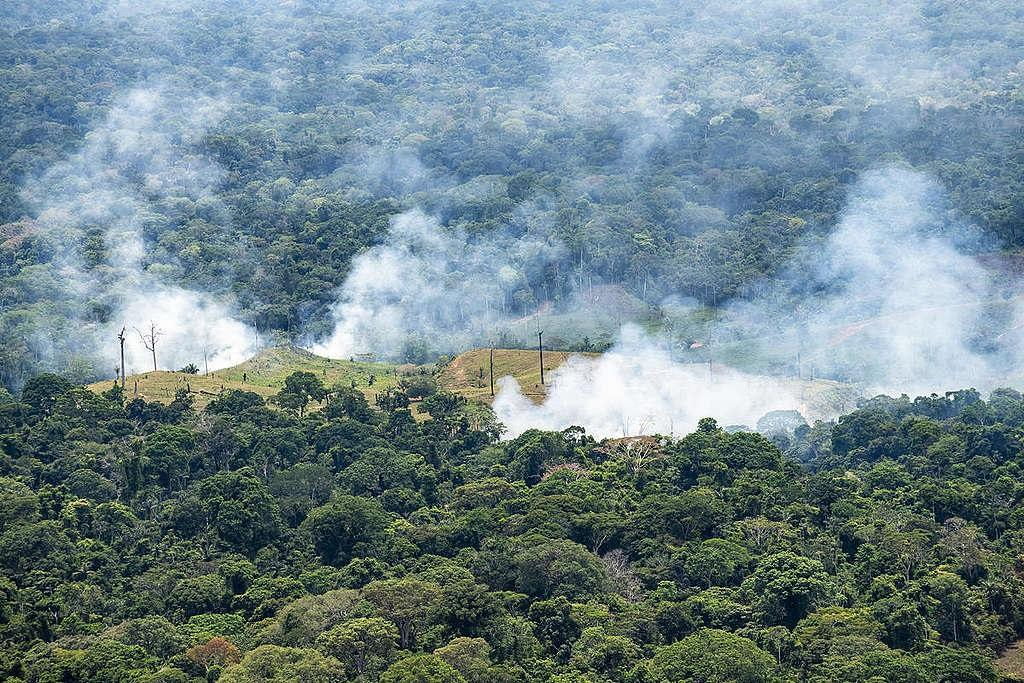smoke: (858, 247, 982, 363), (562, 360, 752, 425)
